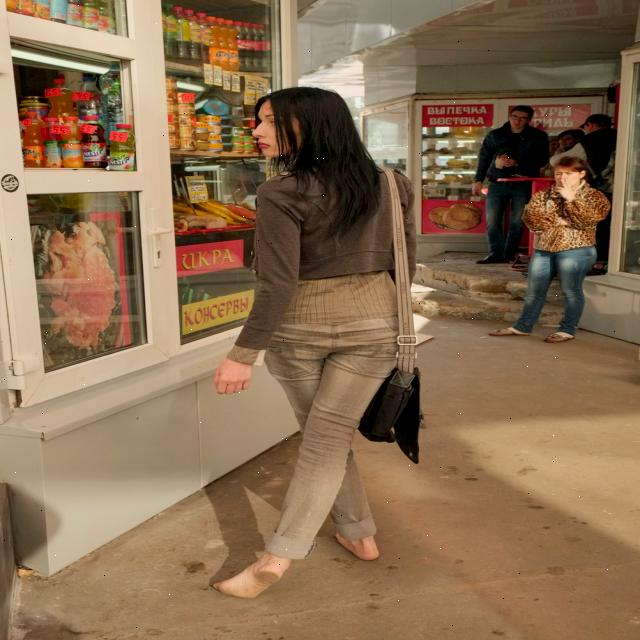No Safety Boots: (213, 562, 286, 598), (335, 533, 380, 561)
